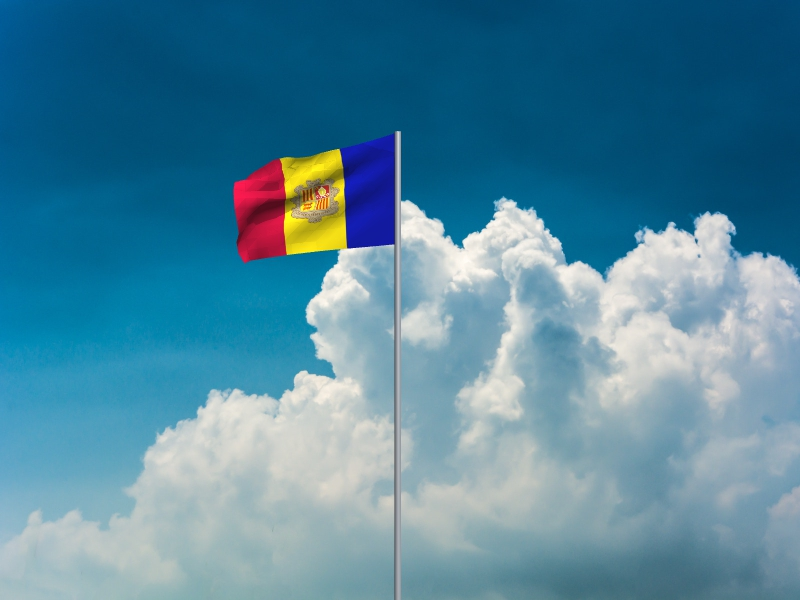ad: (232, 133, 398, 265)
